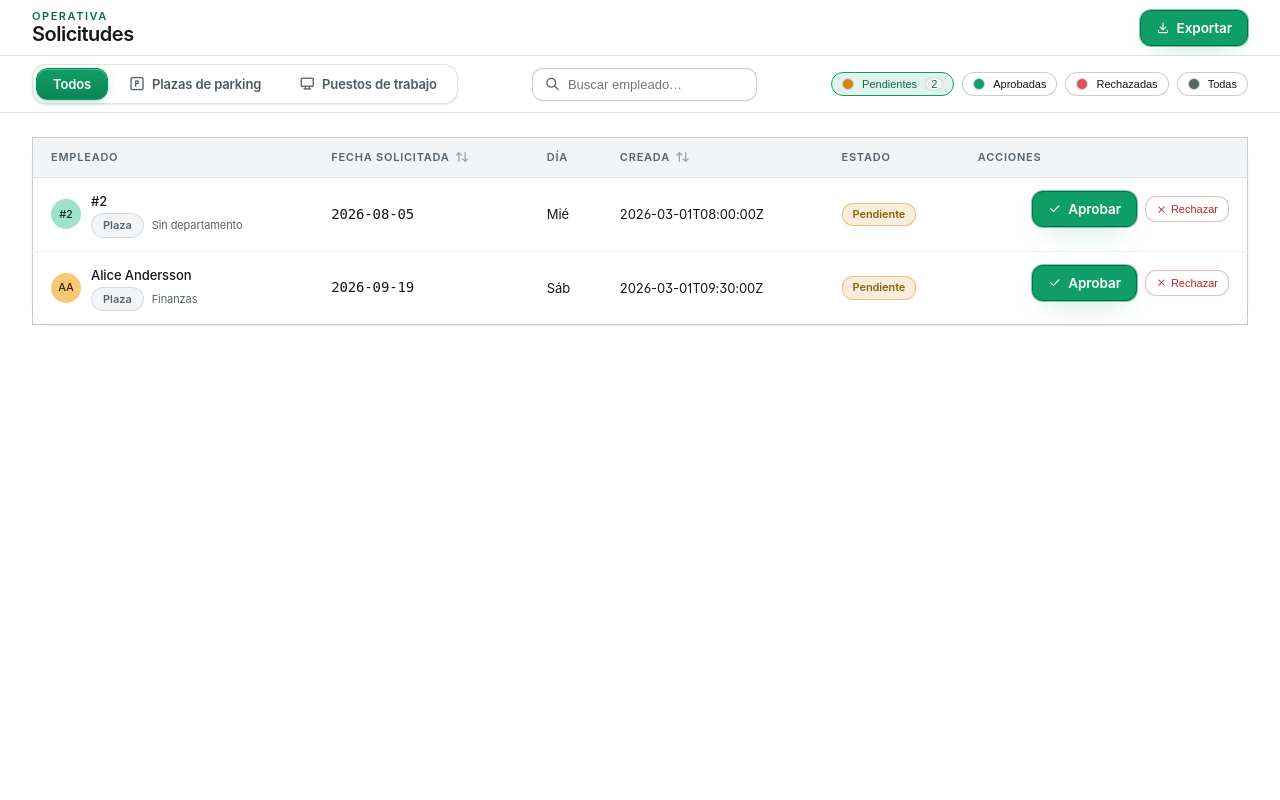
it: PendingRequestsPage (ADMIN) › should_require_space_when_approve_submitted_without_selection
Click the button "Aprobar" in the row of "Sin departamento" at {"x": 1084, "y": 209}, box [1032, 191, 1137, 227]
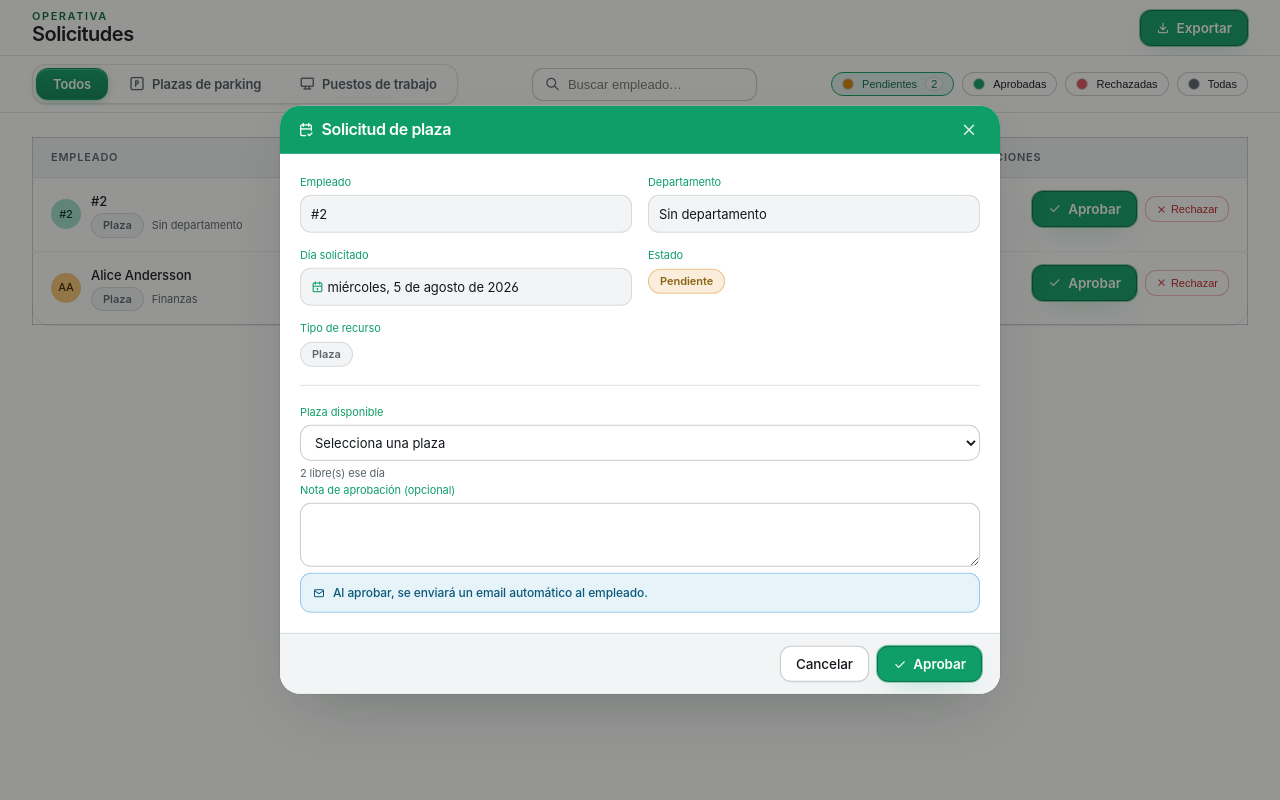
Expected: the dialog is shown, [280, 106, 1000, 694]
Click the button "Aprobar" at {"x": 929, "y": 664}, box [877, 646, 982, 682]
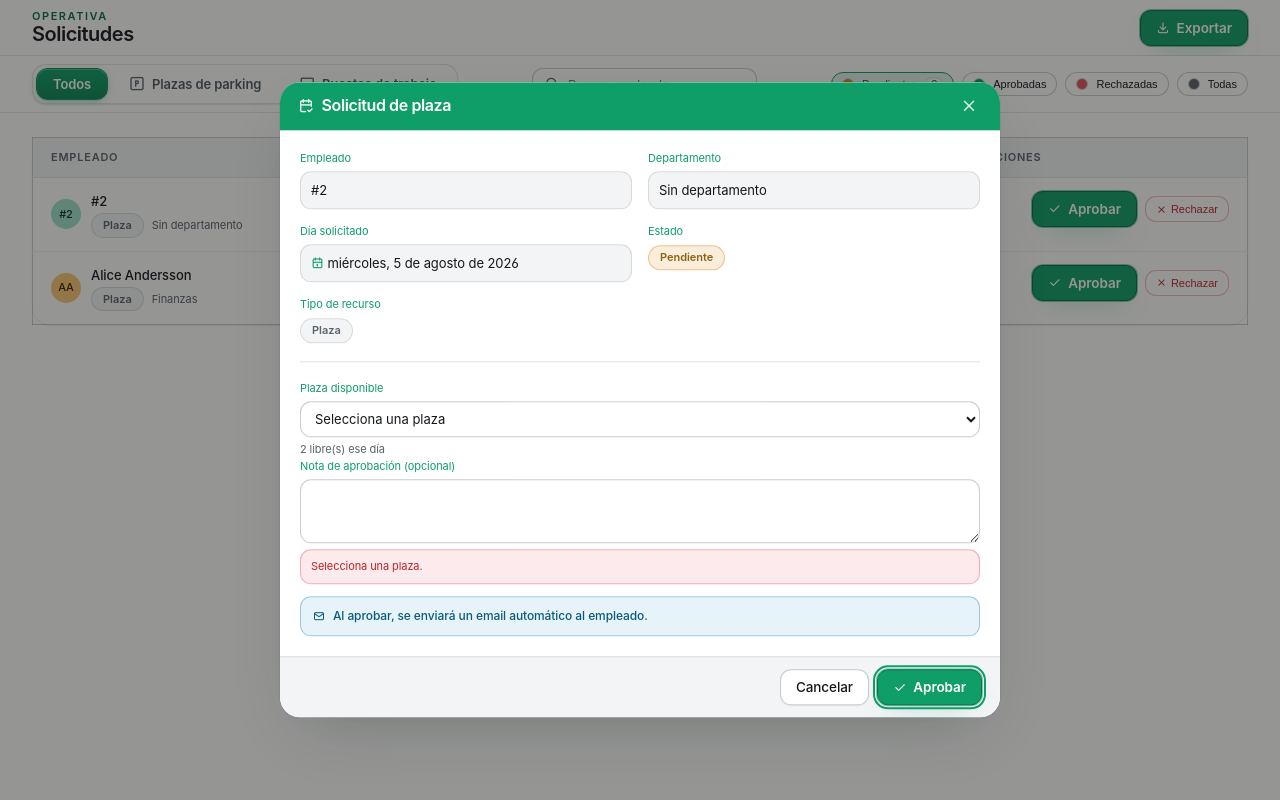
Expected: the dialog is shown, [280, 82, 1000, 718]
Expected: the message "Selecciona una plaza." is shown, [300, 550, 980, 585]
